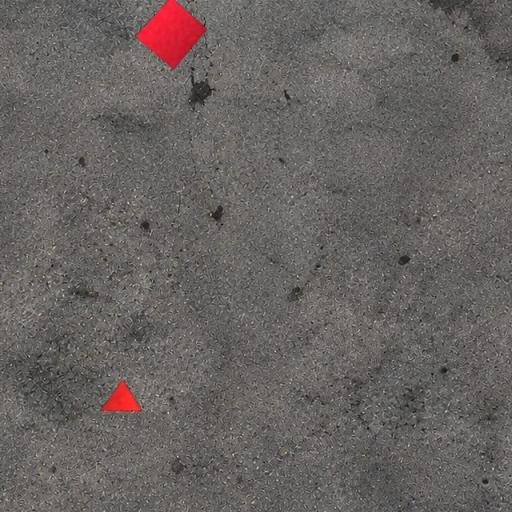RED_SQUARE: (134, 0, 207, 70)
